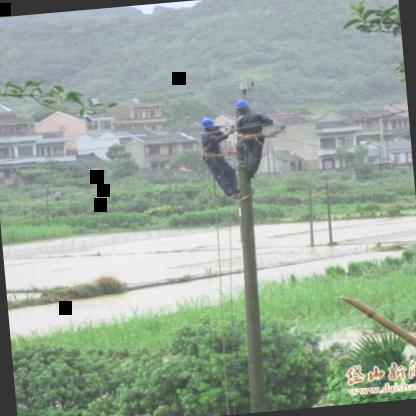helmet: (200, 113, 222, 138), (236, 97, 254, 117)
